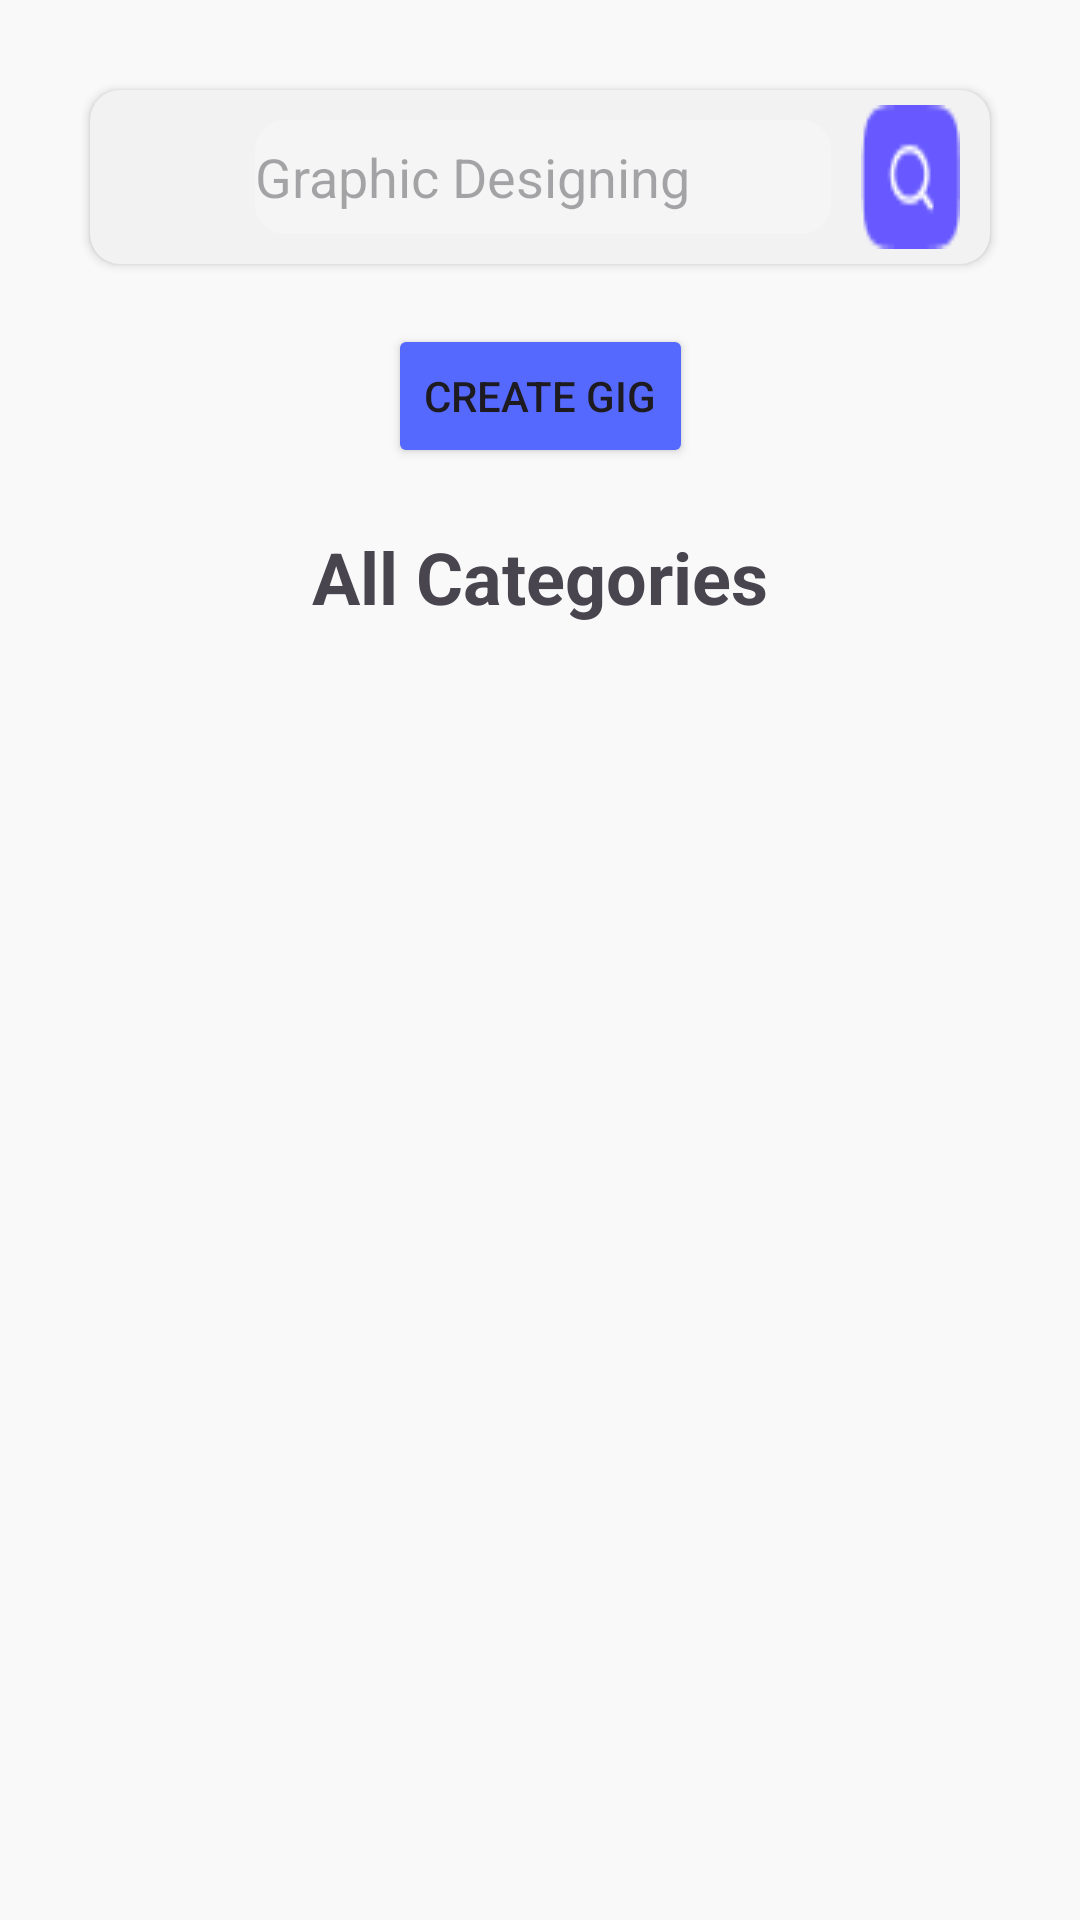

Screen size 1080 × 1920. Icon name, then its box in pixels as (x1, y1, x2, y2):
search: (861, 105, 960, 249)
